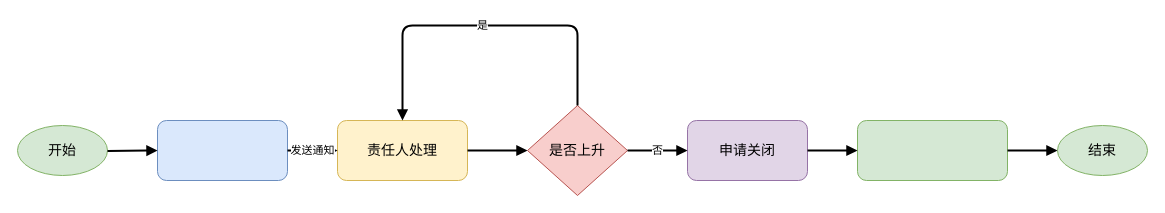
This 1165x213 diagram has some shape labels left out. The shapes that lost their labels are listed below. From the top down, each one's centre as x and y in pixels, then its label:
[222,150]: 新增重大问题
[932,150]: 项目经理关闭确认
